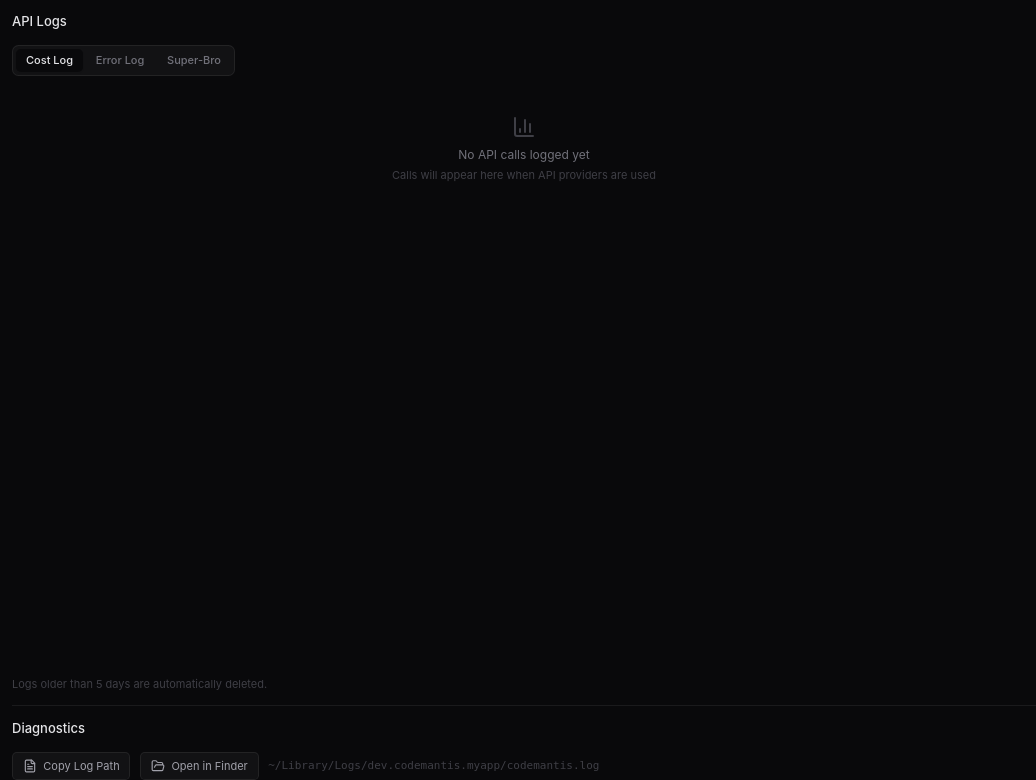
Scenario: ApiLogsTab › shows Copied! feedback after clicking Copy Log Path
The width and height of the screenshot is (1036, 780).
Click the button "Copy Log Path".
click(71, 766)  # box left=12, top=752, right=130, bottom=779
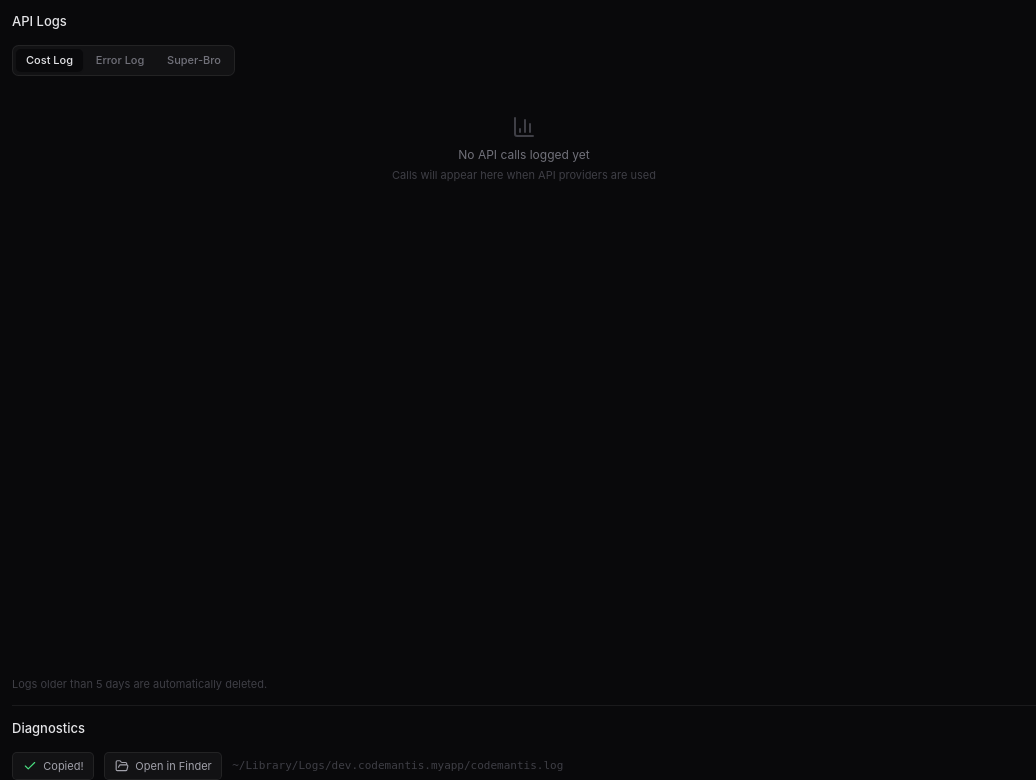
Expected: the button "Copied!" is shown, left=12, top=752, right=94, bottom=779
